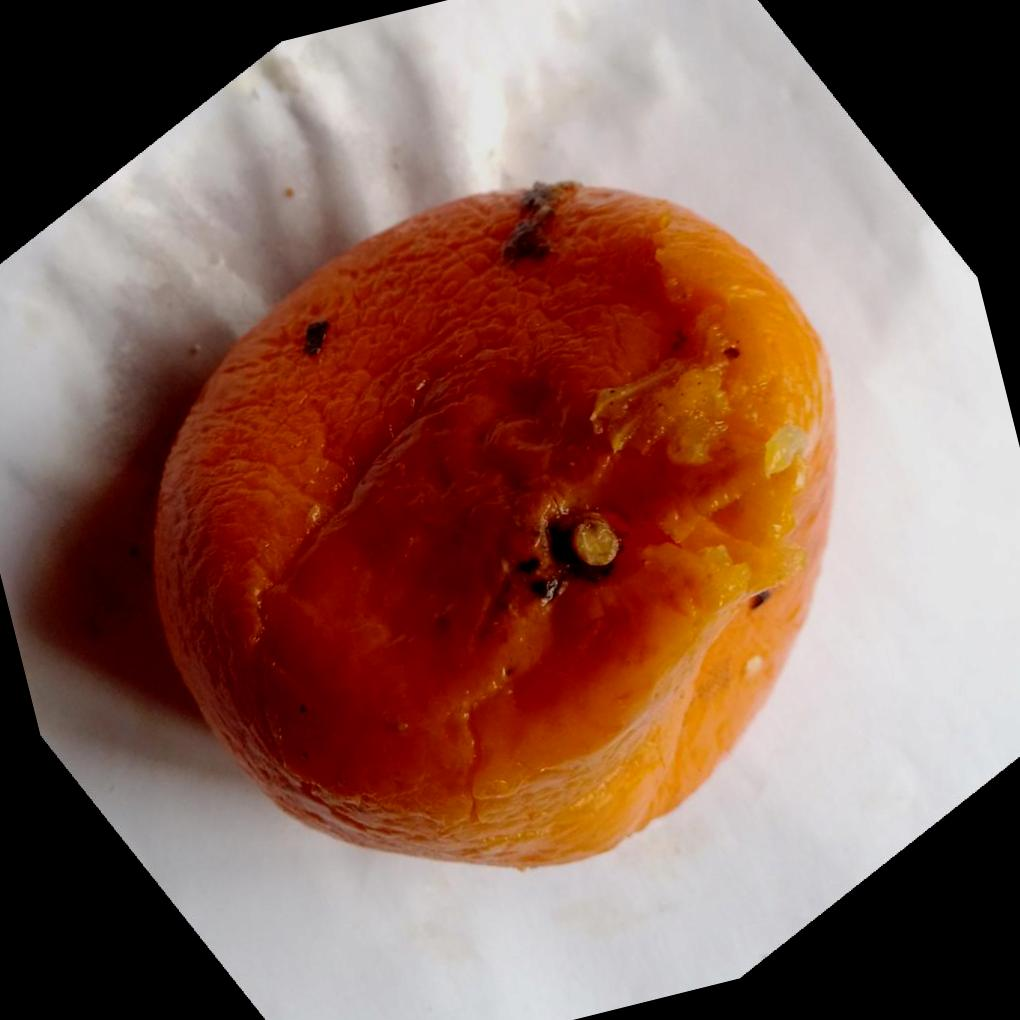FreshOrange: (147, 182, 840, 875)
